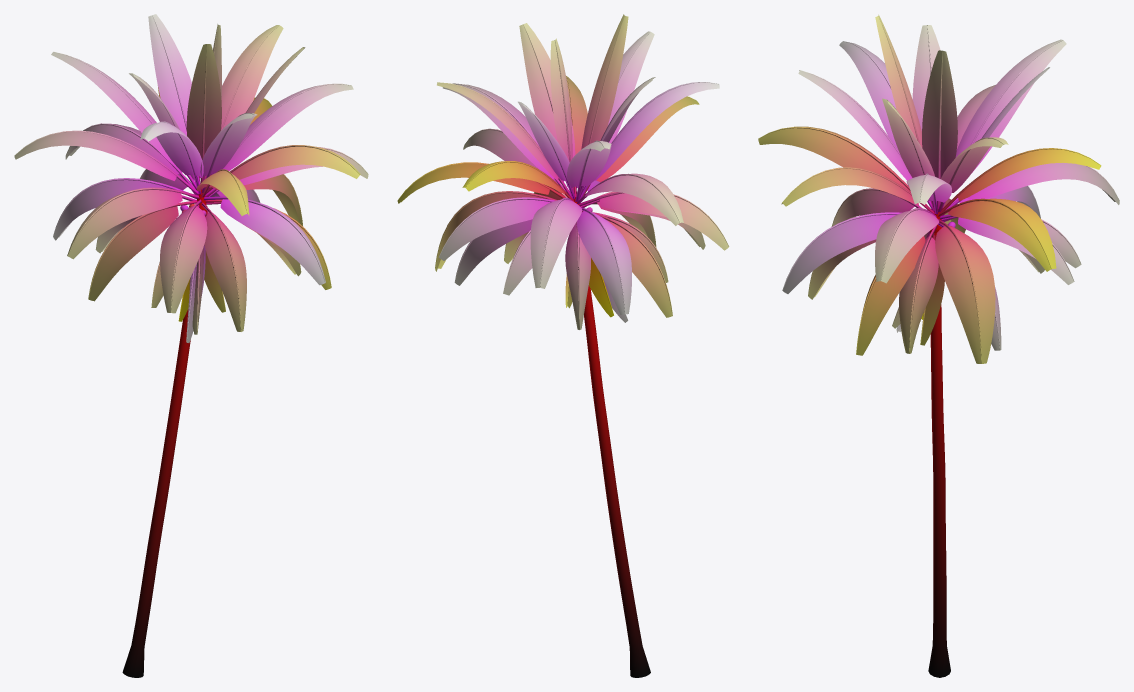
File: palm_coconut_b.glb
3 renders of one model, left to right at view 1: azimuth 30°, elevation 25°; view 2: azimuth 150°, elevation 25°; view 3: azimuth 270°, elevation 25°, orthographic. The views are drawn at different scales.
Parts seen in each view (by area): view 1: palm_coconut_b; view 2: palm_coconut_b; view 3: palm_coconut_b.
Part boxes in pixels (box(x1,y1,x2,y2)): palm_coconut_b: box(14, 14, 368, 677); palm_coconut_b: box(397, 14, 729, 677); palm_coconut_b: box(758, 14, 1119, 677).
Size of what is drawn, in the model's own units: 10.29 by 21.75 by 10.48.
